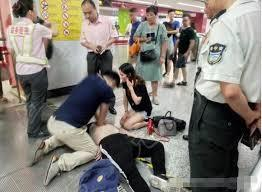Fall-Detected: (80, 114, 179, 192)
